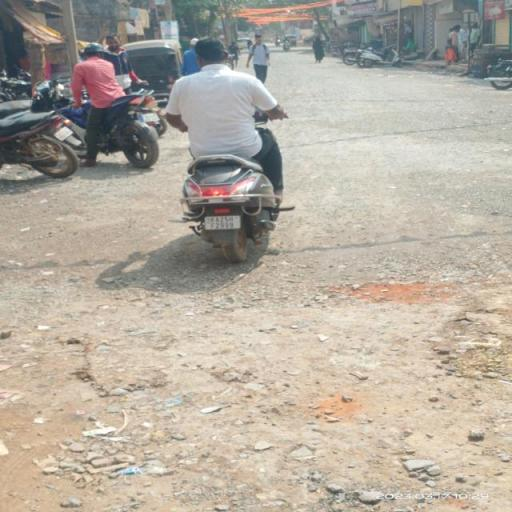bike: (168, 32, 299, 266)
numberplate: (204, 216, 241, 230)
withouthelmet: (195, 39, 225, 65)
